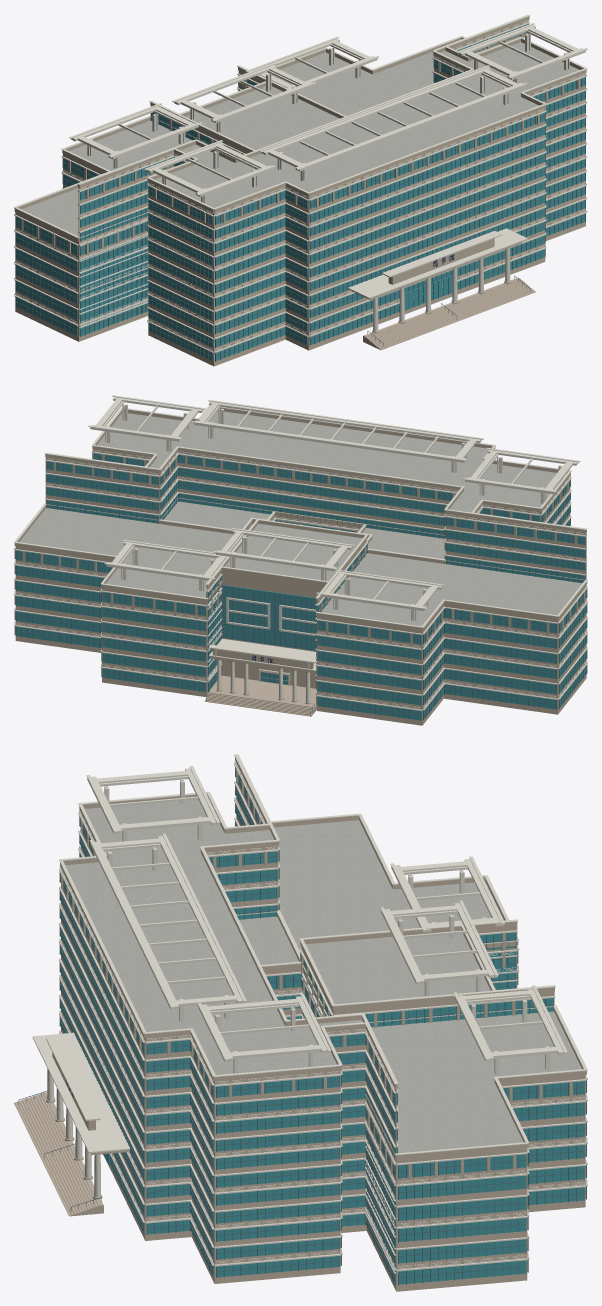
File: library.glb
The picture shows the model from 3 angles, top to bottom: view 1: azimuth 30°, elevation 25°; view 2: azimuth 150°, elevation 25°; view 3: azimuth 270°, elevation 25°; orthographic projection. The views are drawn at different scales.
Visible parts, largest first — view 1: landmark-library; view 2: landmark-library; view 3: landmark-library.
Part boxes in pixels (bbox=[...]): landmark-library: bbox=[14, 14, 587, 366]; landmark-library: bbox=[14, 395, 587, 725]; landmark-library: bbox=[14, 754, 587, 1291].
Bounding box in the file's own units: 130 × 40.5 × 92.28.
Materials: 8 (1 with a texture image).
